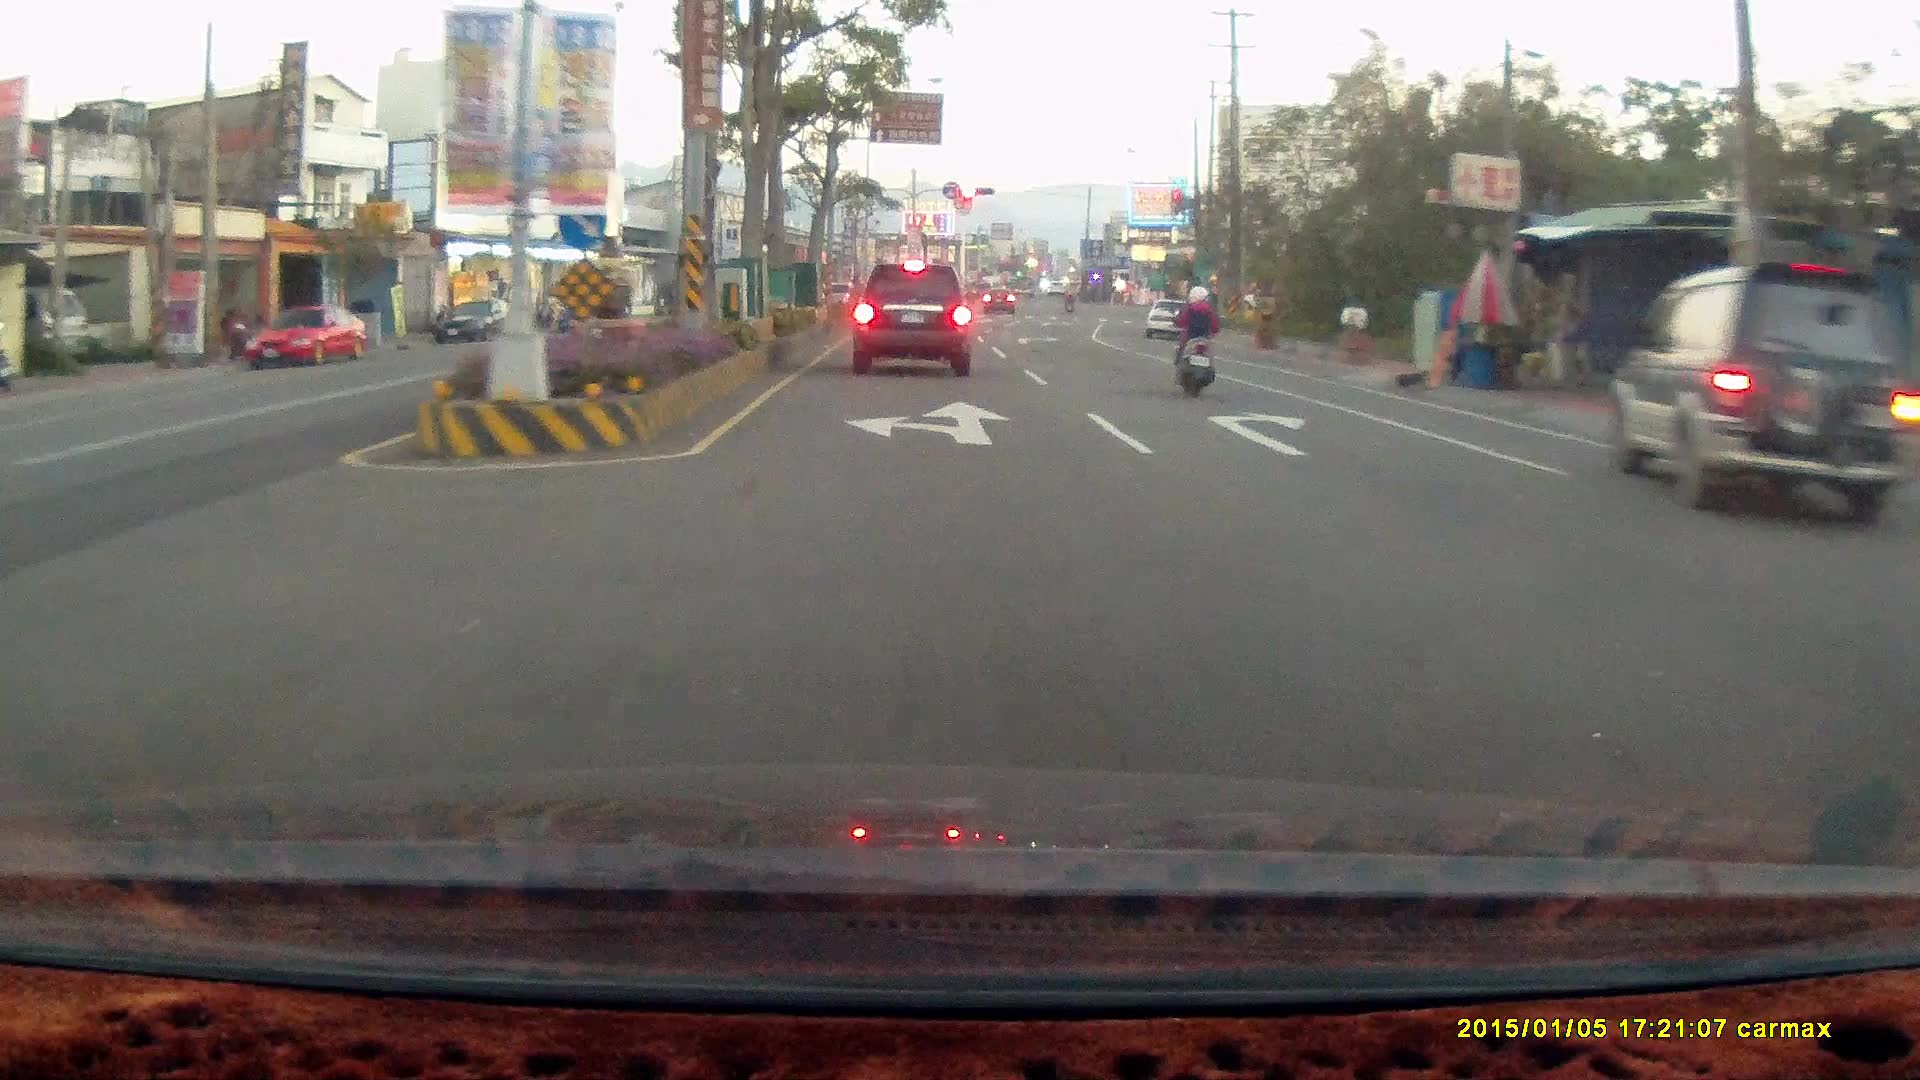rider: (1171, 280, 1222, 399)
vehicle: (1607, 262, 1919, 524), (1614, 265, 1920, 518), (850, 261, 970, 375), (245, 301, 374, 370), (242, 302, 370, 369), (1896, 493, 1920, 836), (1883, 528, 1920, 690), (437, 296, 528, 344), (1145, 299, 1196, 342), (1143, 298, 1195, 338)
